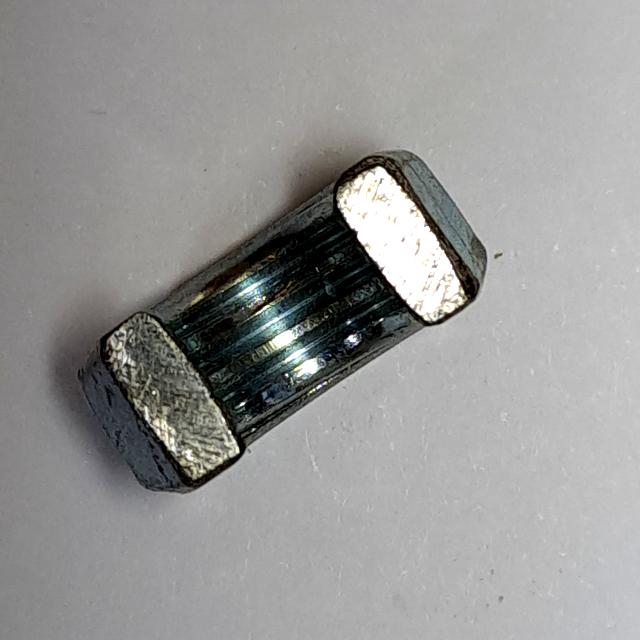Side-Fracture: (66, 136, 494, 505)
